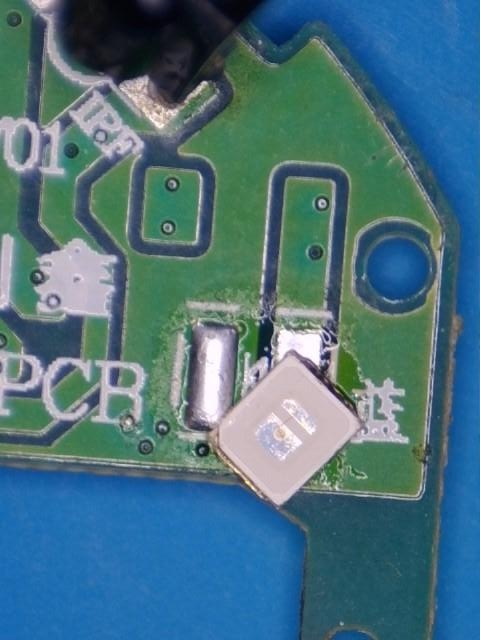pcb_defect: (186, 324, 366, 510)
